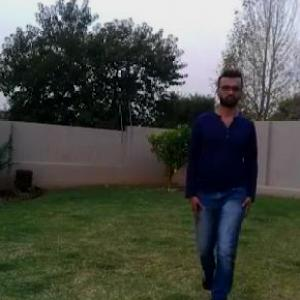follow: (187, 66, 257, 299)
